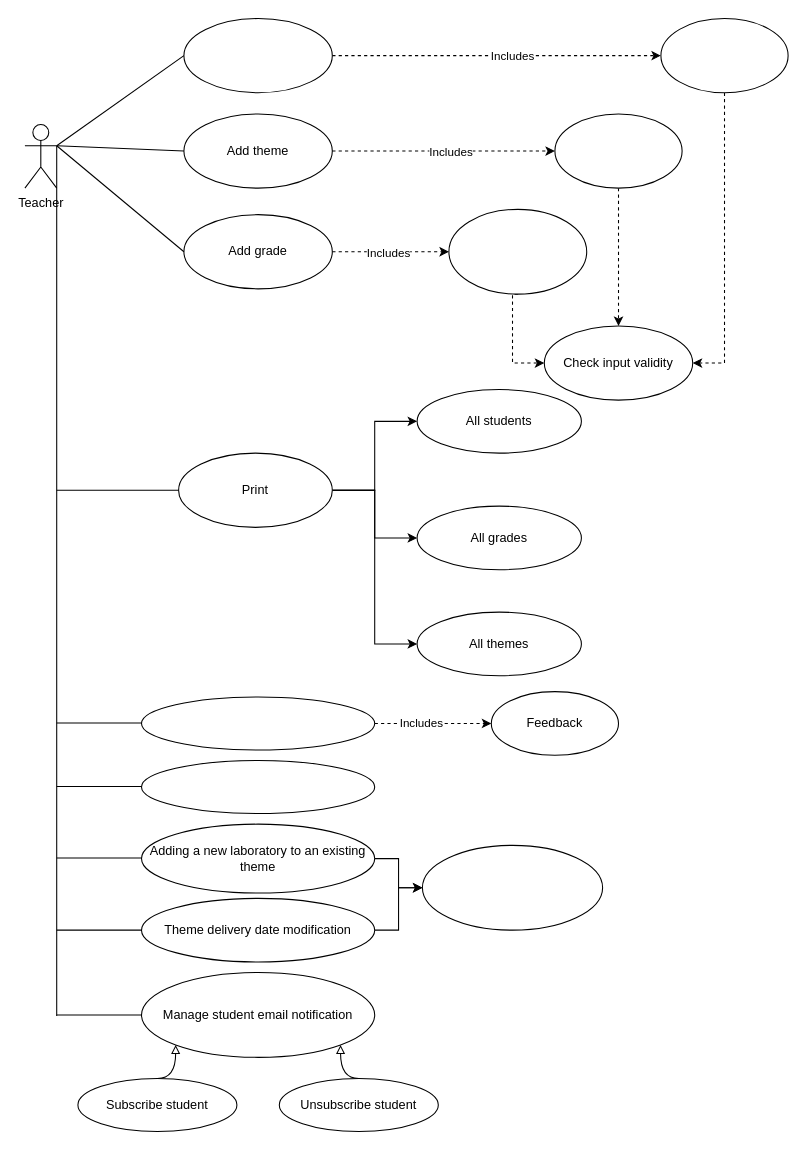
The diagram is 807 pixels wide and 1150 high, and some of its shapes have lost their labels. The shapes that lost their labels are listed below. From the top down, each one's centre as x and y in pixels, then its label:
At (x=257, y=55): "Add student".
At (x=724, y=55): "Fill in student data".
At (x=618, y=150): "Fill in theme data".
At (x=517, y=251): "Fill grade data".
At (x=257, y=723): "Weekly report".
At (x=257, y=786): "Extend deadline for an Assignment".
At (x=512, y=887): "Notify students by email".
